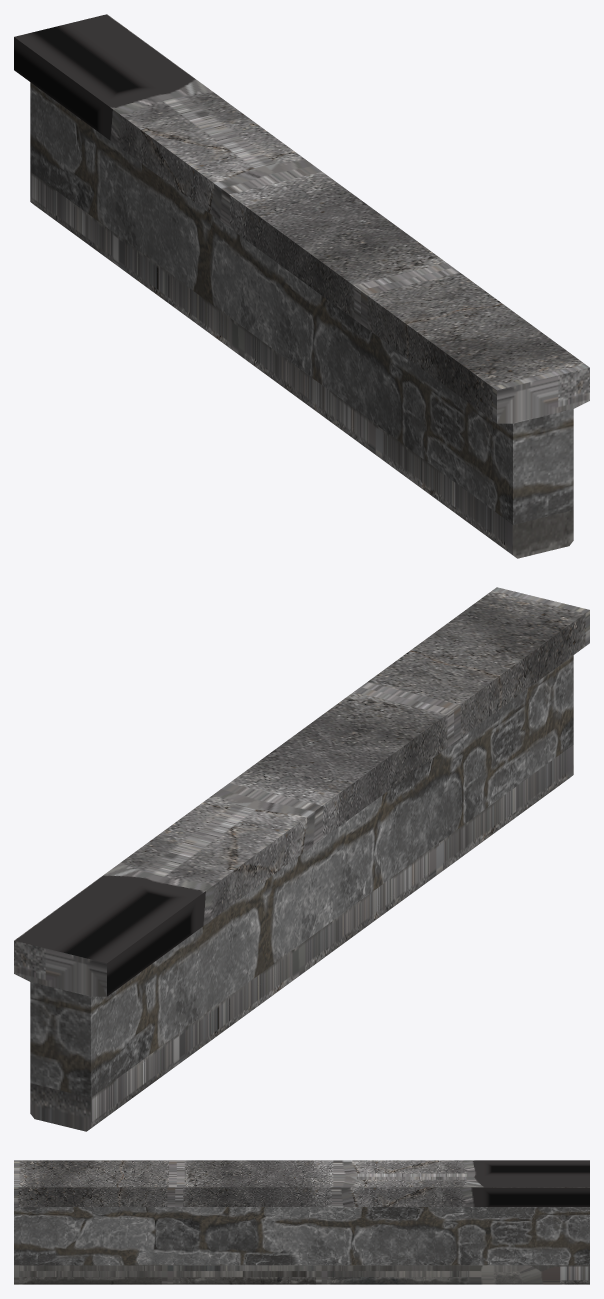
The model's file is MC_Battlements_Wall_B_4m.fbx.
3 views of the same model, one above another, from view 1: azimuth 30°, elevation 25°; view 2: azimuth 150°, elevation 25°; view 3: azimuth 270°, elevation 25° (orthographic). The views are drawn at different scales.
Parts seen in each view (by area): view 1: MC_Battlements_Wall_B_4m; view 2: MC_Battlements_Wall_B_4m; view 3: MC_Battlements_Wall_B_4m.
Boxes of the visible parts, x1,y1,x2,y2 form: MC_Battlements_Wall_B_4m: (14, 14, 589, 558); MC_Battlements_Wall_B_4m: (14, 587, 589, 1131); MC_Battlements_Wall_B_4m: (14, 1160, 589, 1284).
Bounding box in the file's own units: 44.54 × 79.27 × 400.
